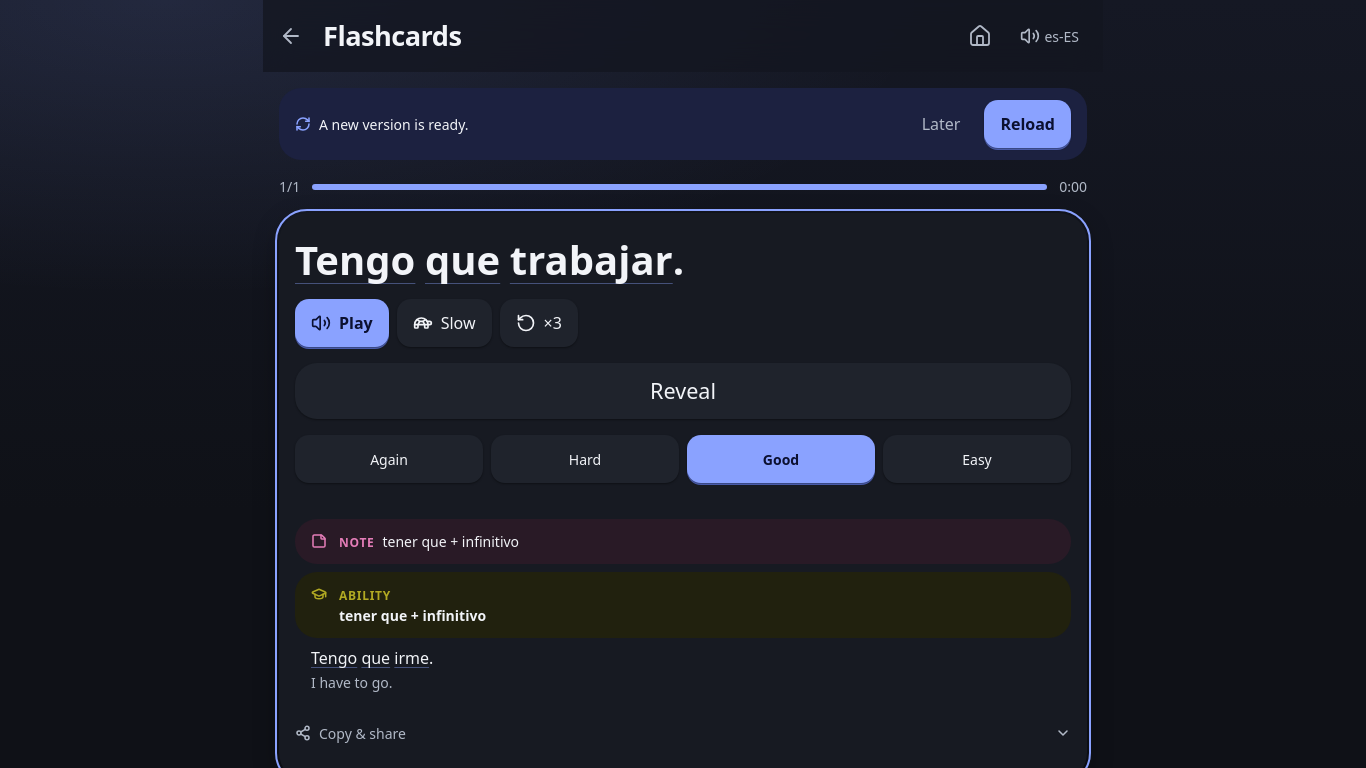
Scenario: keyboard and screen-reader behaviour › marks the open word as expanded
Click the button with aria-label "About “Tengo”". click: (355, 260)
box: [295,237,415,283]
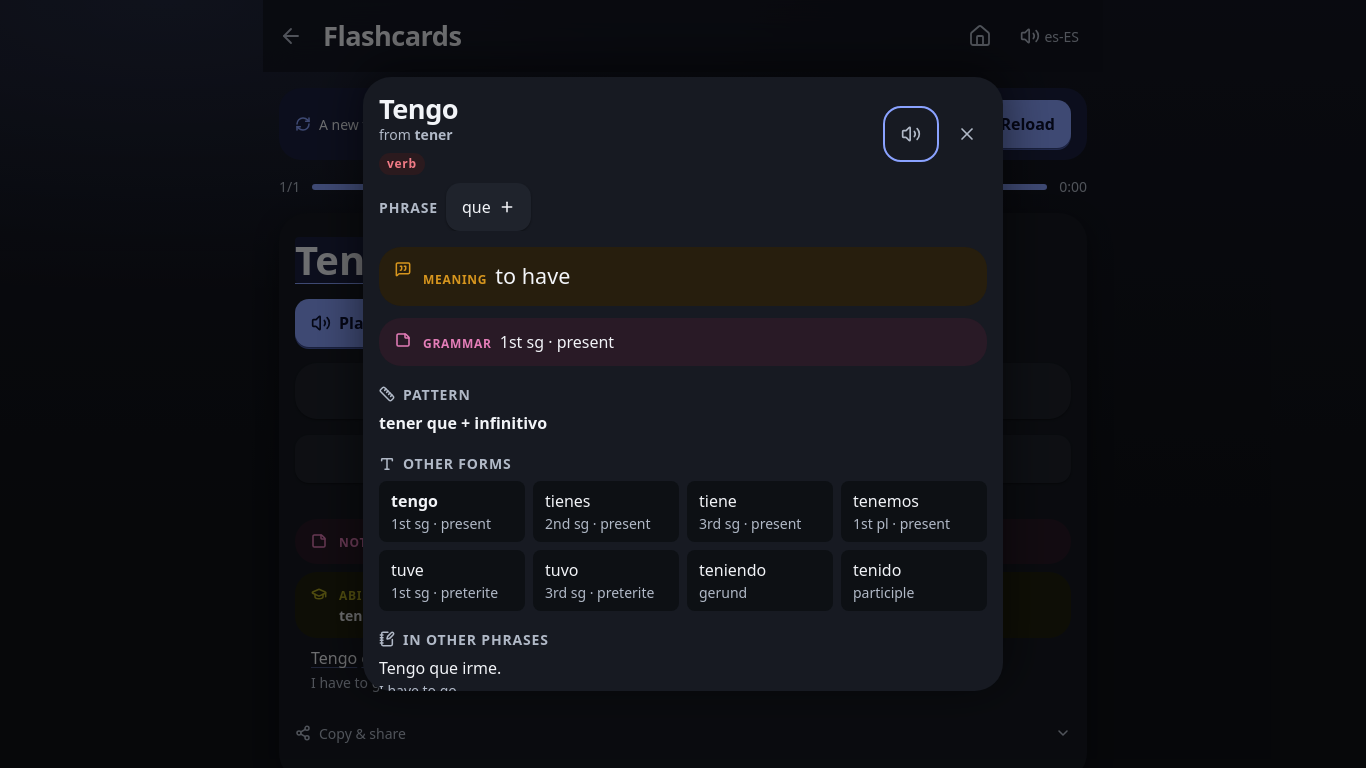
Expected: the button with aria-label "About “Tengo”" is expanded, [295,237,415,283]
